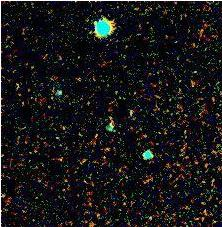star: (80, 7, 110, 37)
